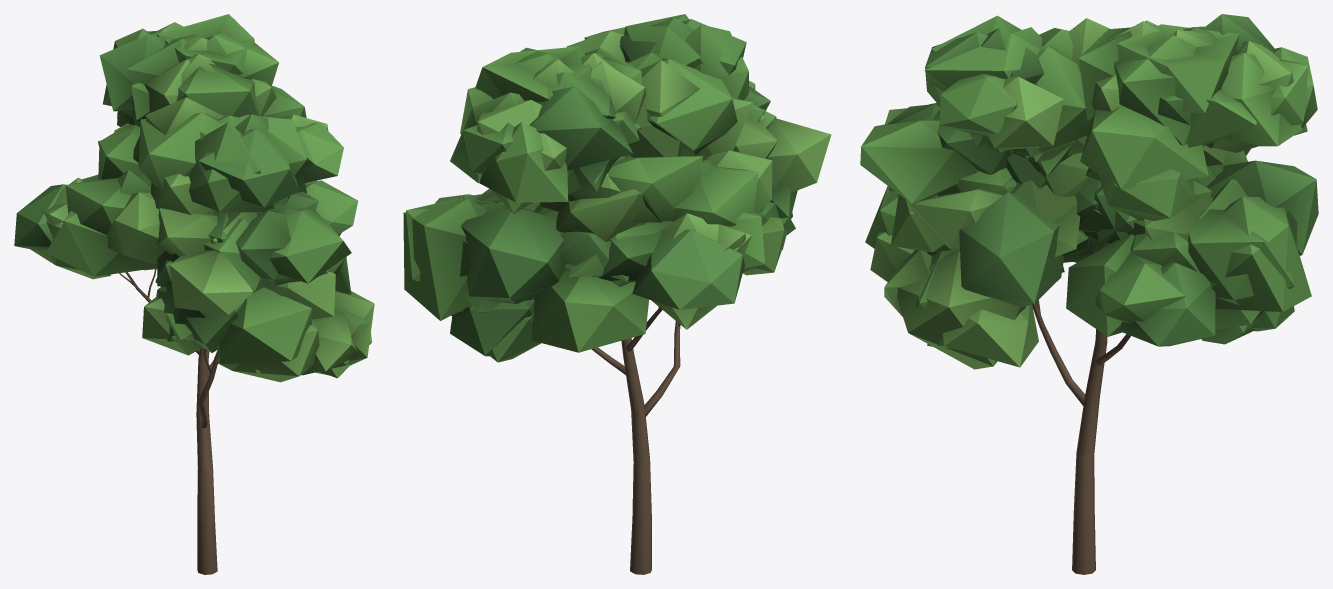
File: obj_arbol_2.glb
3 renders of one model, left to right at view 1: azimuth 30°, elevation 25°; view 2: azimuth 150°, elevation 25°; view 3: azimuth 270°, elevation 25°, orthographic. The views are drawn at different scales.
Parts seen in each view (by area): view 1: propforge-libre-arbol; view 2: propforge-libre-arbol; view 3: propforge-libre-arbol.
Boxes of the visible parts, x1,y1,x2,y2 form: propforge-libre-arbol: [14, 14, 374, 574]; propforge-libre-arbol: [403, 14, 831, 574]; propforge-libre-arbol: [860, 14, 1318, 574].
Bounding box in the file's own units: 1.76 × 2.66 × 1.97.
